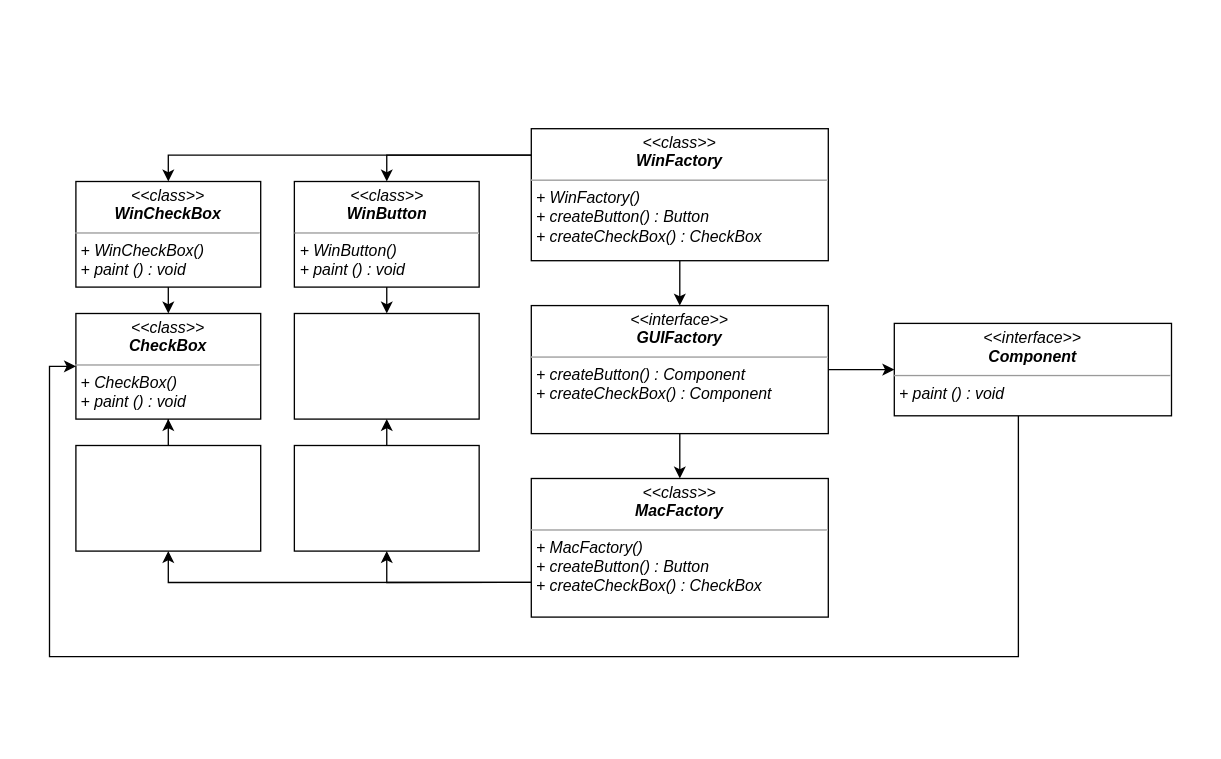
This 1221x759 diagram has some shape labels left out. Each missing label, with the centre of its shape:
"<<class>> Button + Button () + paint () : void" goes at (386,365).
"<<class>> MacButton + MacButton () + paint () : void" goes at (168,497).
"<<class>> MacCheckBox + MacCheckBox () + paint () : void" goes at (386,497).
